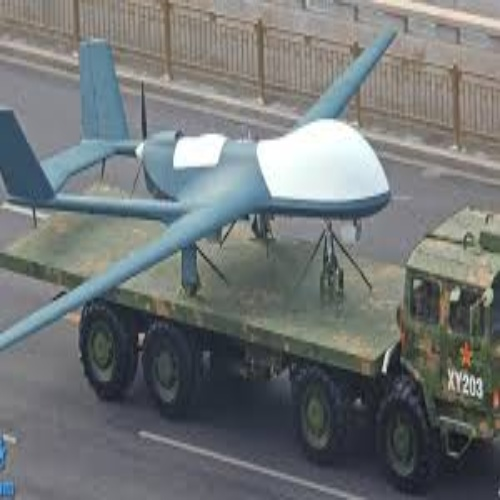uav554: (2, 25, 393, 315)
